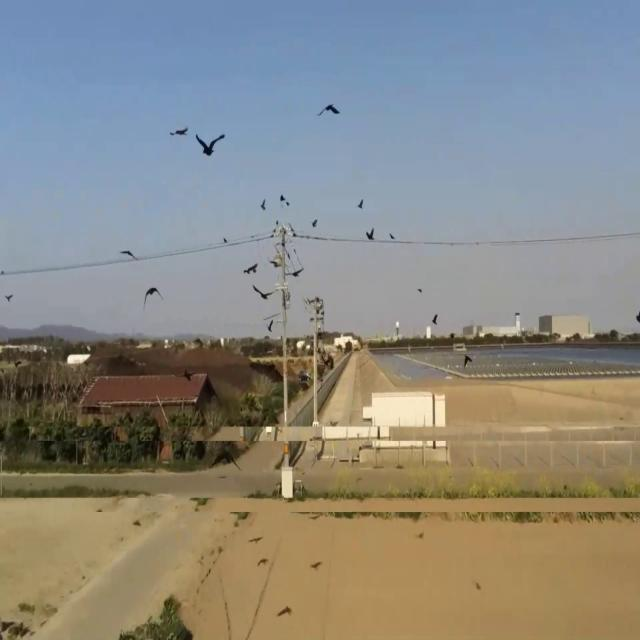bird: (196, 125, 226, 166), (143, 278, 161, 314), (319, 96, 340, 125), (253, 280, 271, 308), (171, 122, 188, 146), (121, 242, 137, 267), (244, 257, 258, 281), (266, 314, 274, 338), (366, 222, 374, 245), (463, 350, 471, 373), (5, 287, 13, 307), (635, 301, 640, 328), (432, 309, 438, 329), (312, 215, 318, 232), (358, 196, 364, 213), (389, 228, 395, 244), (261, 196, 266, 214), (222, 234, 228, 249)
